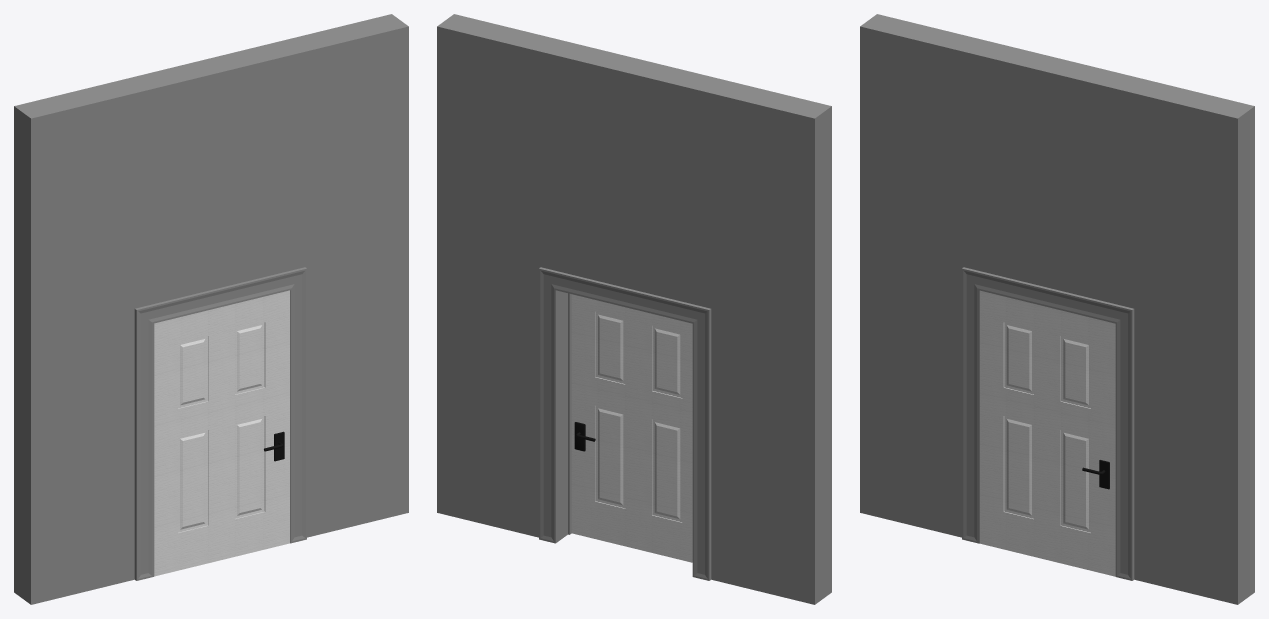
The model's file is WhitewoodDoor2.FBX.
The picture shows the model from 3 angles, left to right: view 1: azimuth 30°, elevation 25°; view 2: azimuth 150°, elevation 25°; view 3: azimuth 330°, elevation 25°; orthographic projection.
Visible parts, largest first — view 1: Door Wall, Door; view 2: Door Wall, Door; view 3: Door Wall, Door.
Part boxes in pixels (bbox=[...]): Door Wall: bbox=[14, 14, 408, 604]; Door: bbox=[154, 290, 289, 576]; Door Wall: bbox=[437, 14, 831, 604]; Door: bbox=[571, 294, 692, 562]; Door Wall: bbox=[860, 14, 1254, 604]; Door: bbox=[980, 290, 1115, 576].
Size of the model in its own units: 128 by 157 by 14.65.
Materials: 4 (1 with a texture image).
